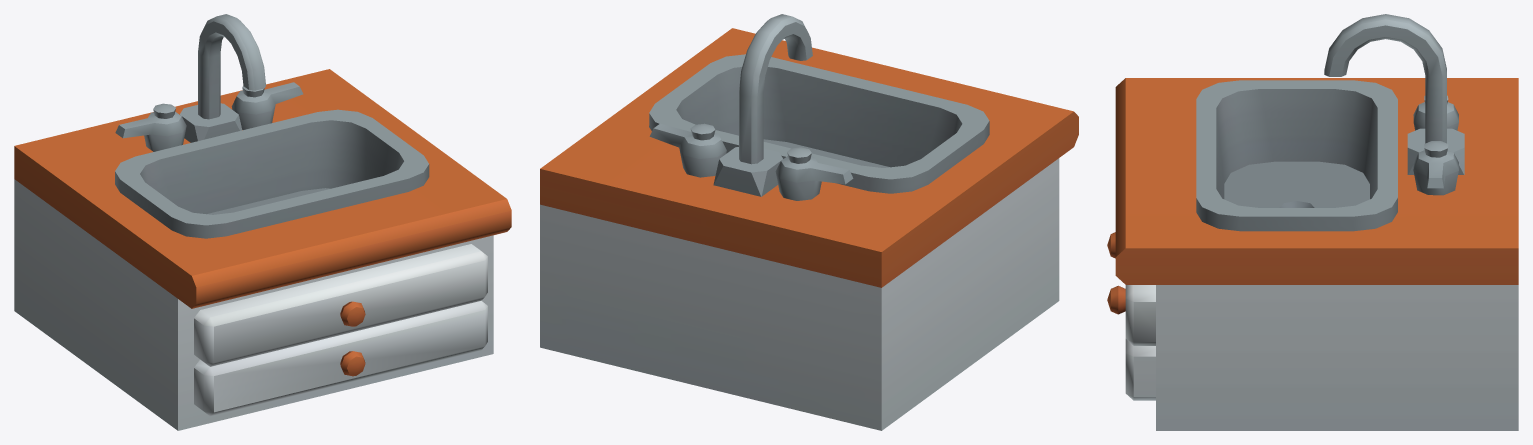
Rendered from diskbank.glb.
The picture shows the model from 3 angles, left to right: view 1: azimuth 30°, elevation 25°; view 2: azimuth 150°, elevation 25°; view 3: azimuth 270°, elevation 25°; orthographic projection. The views are drawn at different scales.
Visible parts, largest first — view 1: kitchencounter_sink; view 2: kitchencounter_sink; view 3: kitchencounter_sink.
Part boxes in pixels (x1,y1,x2,y2): kitchencounter_sink: (14, 14, 511, 430); kitchencounter_sink: (540, 14, 1078, 430); kitchencounter_sink: (1107, 14, 1518, 430).
Size of the model in its own units: 2 by 1.8 by 2.04.
Materials: 1 (1 with a texture image).
